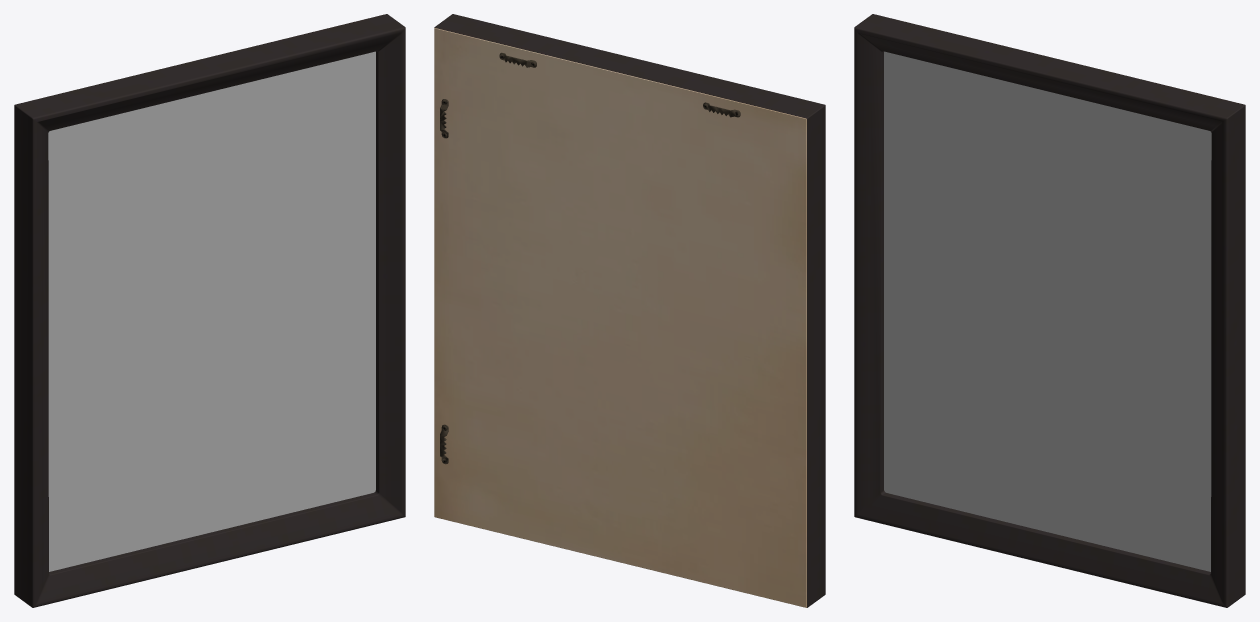
Rendered from B07RTZ6NBL.glb.
3 renders of one model, left to right at view 1: azimuth 30°, elevation 25°; view 2: azimuth 150°, elevation 25°; view 3: azimuth 330°, elevation 25°, orthographic.
Visible parts, largest first — view 1: RootNode; view 2: RootNode; view 3: RootNode.
Boxes of the visible parts, <box> form: RootNode: <box>14,14,405,607</box>; RootNode: <box>434,14,825,607</box>; RootNode: <box>854,14,1245,607</box>.
Size of the model in its own units: 0.4057 by 0.5087 by 0.0405.
1 material, 1 textured.
